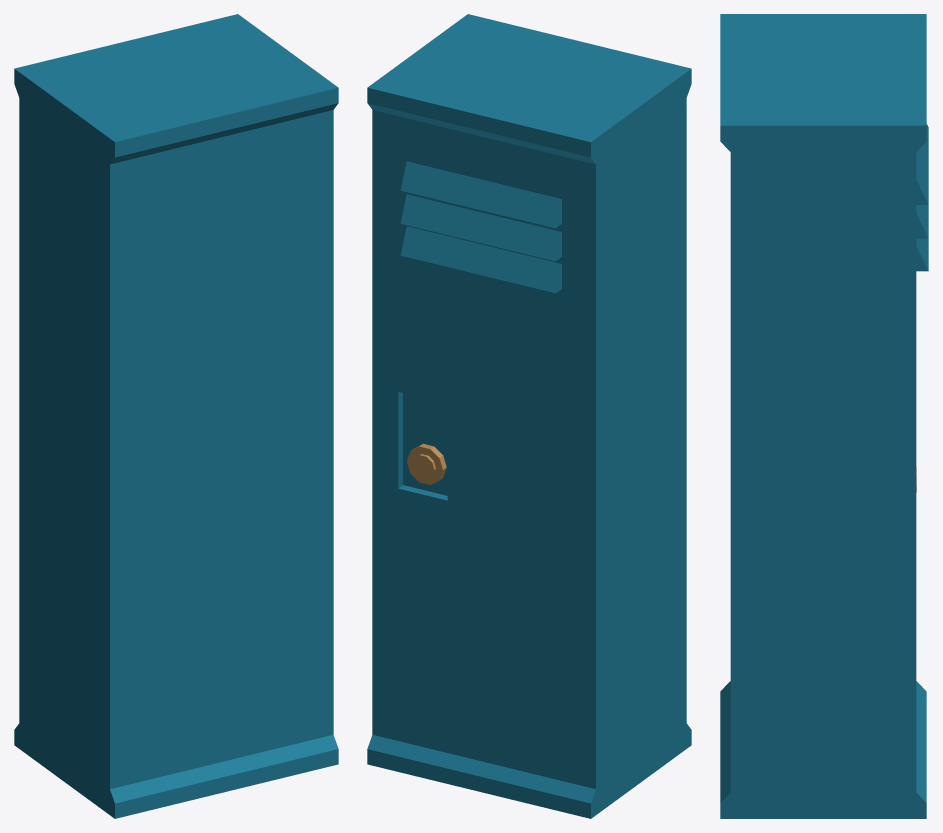
The model's file is fbx_club_locker.fbx.
The picture shows the model from 3 angles, left to right: view 1: azimuth 30°, elevation 25°; view 2: azimuth 150°, elevation 25°; view 3: azimuth 270°, elevation 25°; orthographic projection. The views are drawn at different scales.
Parts seen in each view (by area): view 1: fbx_club_locker; view 2: fbx_club_locker; view 3: fbx_club_locker.
Boxes of the visible parts, bbox=[...] form: fbx_club_locker: bbox=[14, 14, 338, 818]; fbx_club_locker: bbox=[367, 14, 691, 818]; fbx_club_locker: bbox=[720, 14, 928, 818].
Bounding box in the file's own units: 1.15 × 3.34 × 0.9081.
1 material, 1 textured.
